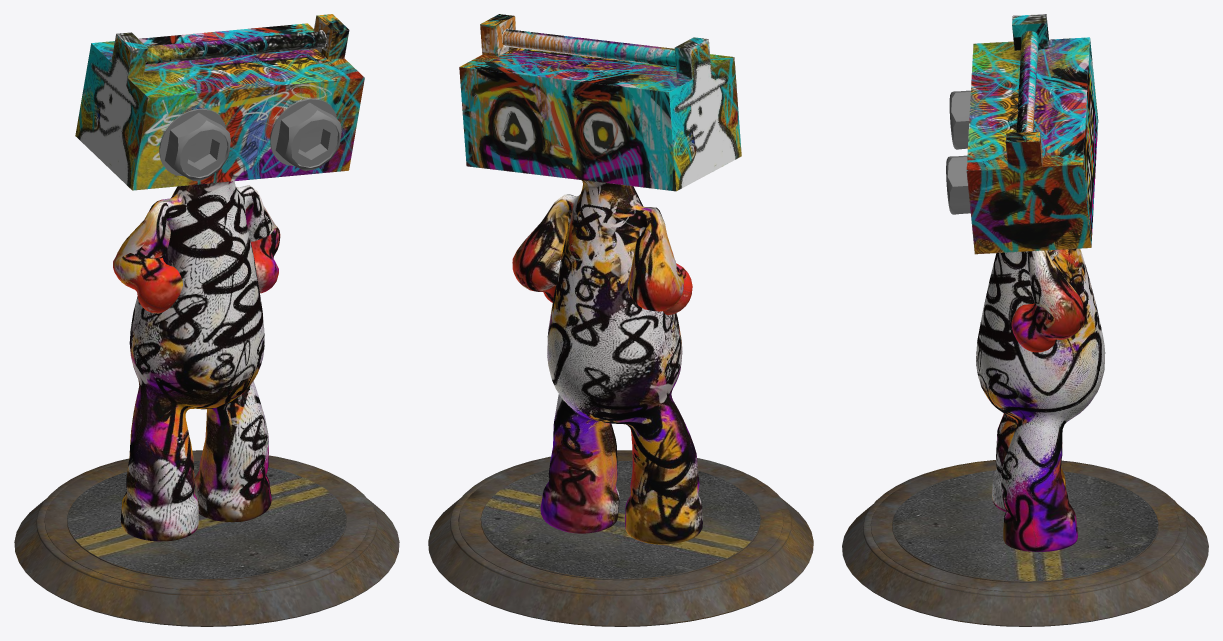
3 views of the same model, side by side, from view 1: azimuth 30°, elevation 25°; view 2: azimuth 150°, elevation 25°; view 3: azimuth 270°, elevation 25° (orthographic). The views are drawn at different scales.
Size of the model in its own units: 1.45 by 2.17 by 1.45.
5 materials, 4 textured.
